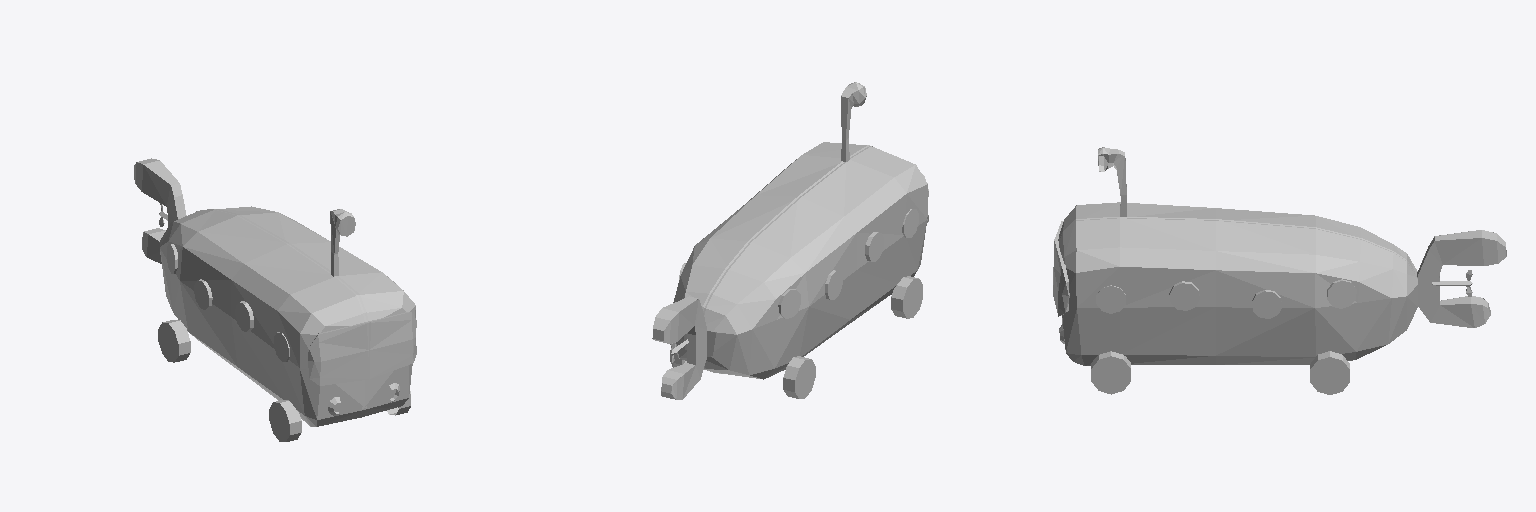
File: bus_bind.obj
3 renders of one model, left to right at view 1: azimuth 30°, elevation 25°; view 2: azimuth 150°, elevation 25°; view 3: azimuth 270°, elevation 25°, orthographic.
Parts seen in each view (by area): view 1: 3D_Object_1; view 2: 3D_Object_1; view 3: 3D_Object_1.
Part boxes in pixels (bbox=[...]): 3D_Object_1: bbox=[134, 158, 416, 441]; 3D_Object_1: bbox=[652, 82, 928, 399]; 3D_Object_1: bbox=[1053, 147, 1506, 394].
Size of the model in its own units: 2.36 by 3.93 by 7.42.